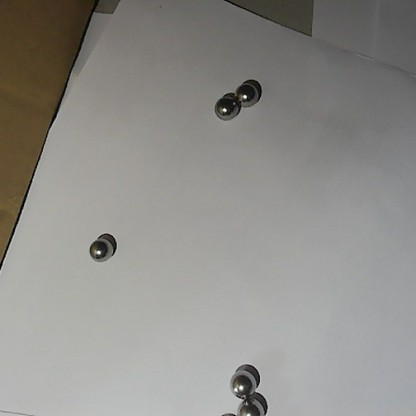ironball: (207, 93, 241, 121), (228, 369, 257, 397), (88, 234, 116, 262), (233, 80, 259, 108), (236, 396, 264, 414)
